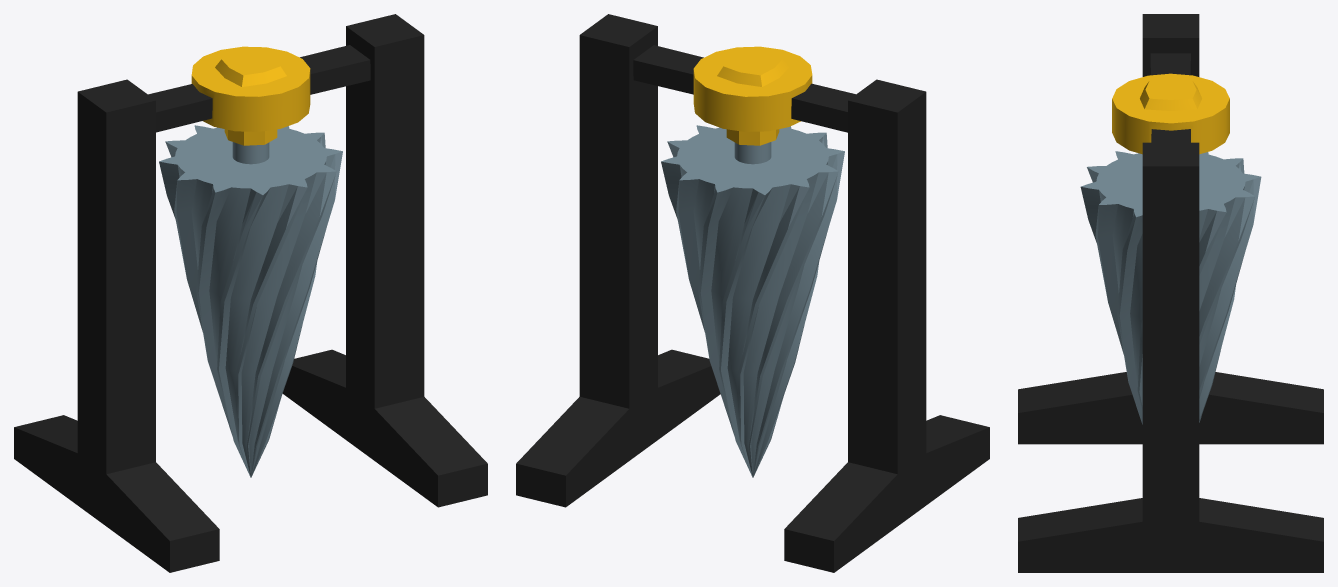
File: drill.fbx
3 views of the same model, side by side, from view 1: azimuth 30°, elevation 25°; view 2: azimuth 150°, elevation 25°; view 3: azimuth 270°, elevation 25° (orthographic).
Parts seen in each view (by area): view 1: Cube, Worm Gear.001; view 2: Cube, Worm Gear.001; view 3: Cube, Worm Gear.001.
Part boxes in pixels (box(x1,y1,x2,y2)): Cube: box(14, 14, 487, 572); Worm Gear.001: box(159, 125, 342, 477); Cube: box(516, 14, 989, 572); Worm Gear.001: box(661, 125, 844, 477); Cube: box(1018, 14, 1323, 572); Worm Gear.001: box(1080, 151, 1261, 424).
Bounding box in the file's own units: 165 × 206 × 140.
